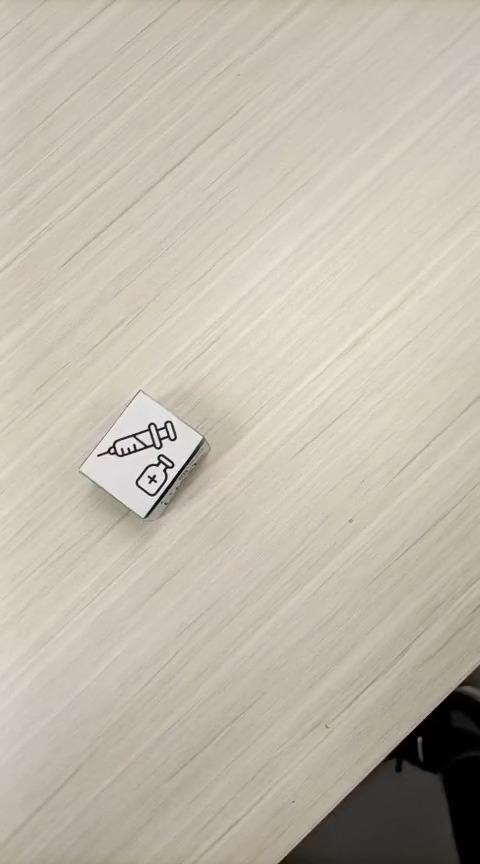antiseptic cream: (77, 388, 210, 522)
